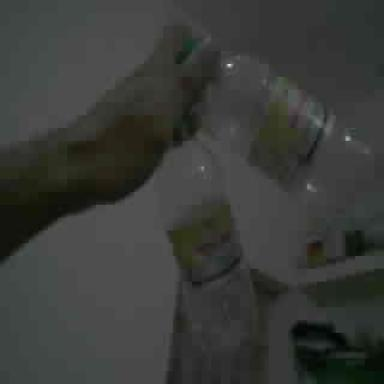bottle: (197, 50, 383, 232), (156, 139, 254, 381)
